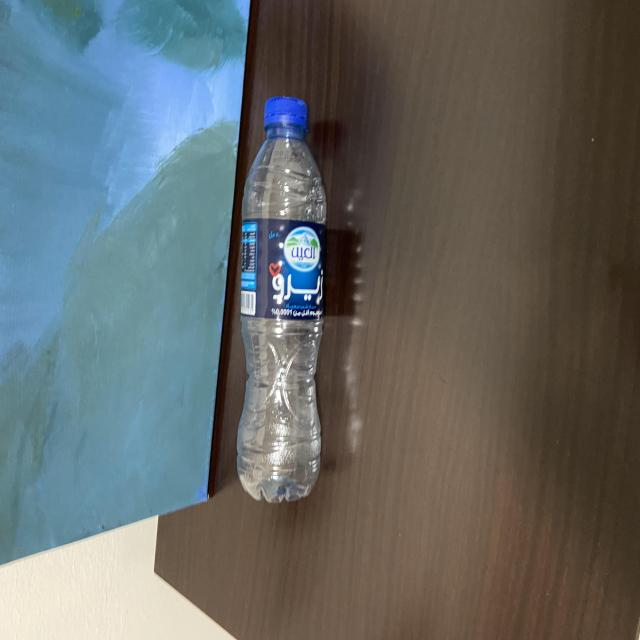plastic: (235, 92, 332, 508)
